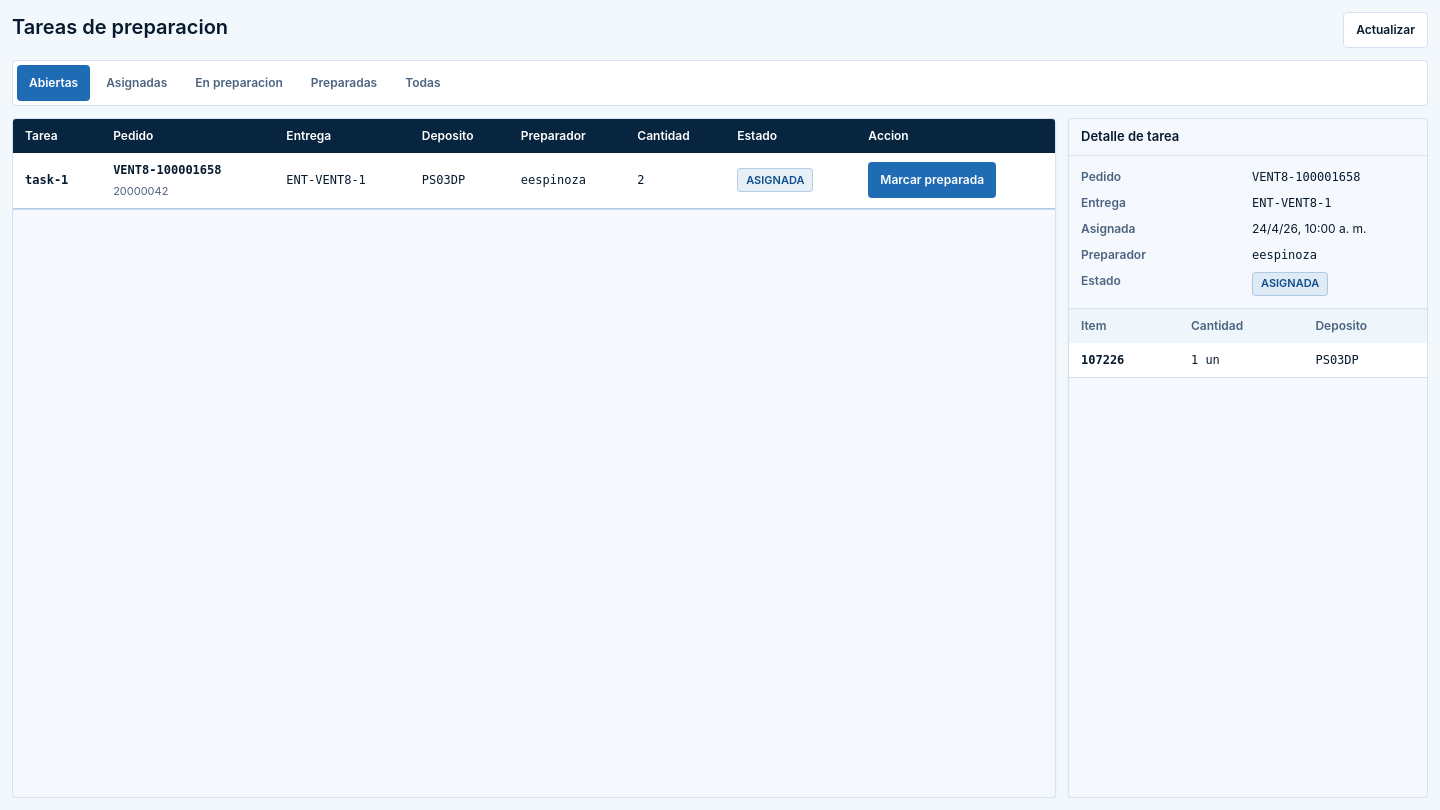
Test: PreparationTasksPage › renders preparation tasks and marks a task prepared
Expected: the text "VENT8-100001658" next to "task-1" is shown, [113,163,222,177]
Expected: the text "ENT-VENT8-1" is shown, [274,153,410,208]
What coordinates should you click on to do the following:
click the button "Marcar preparada"
I would click on:
 (932, 180)
Its box is [868,162,996,198].
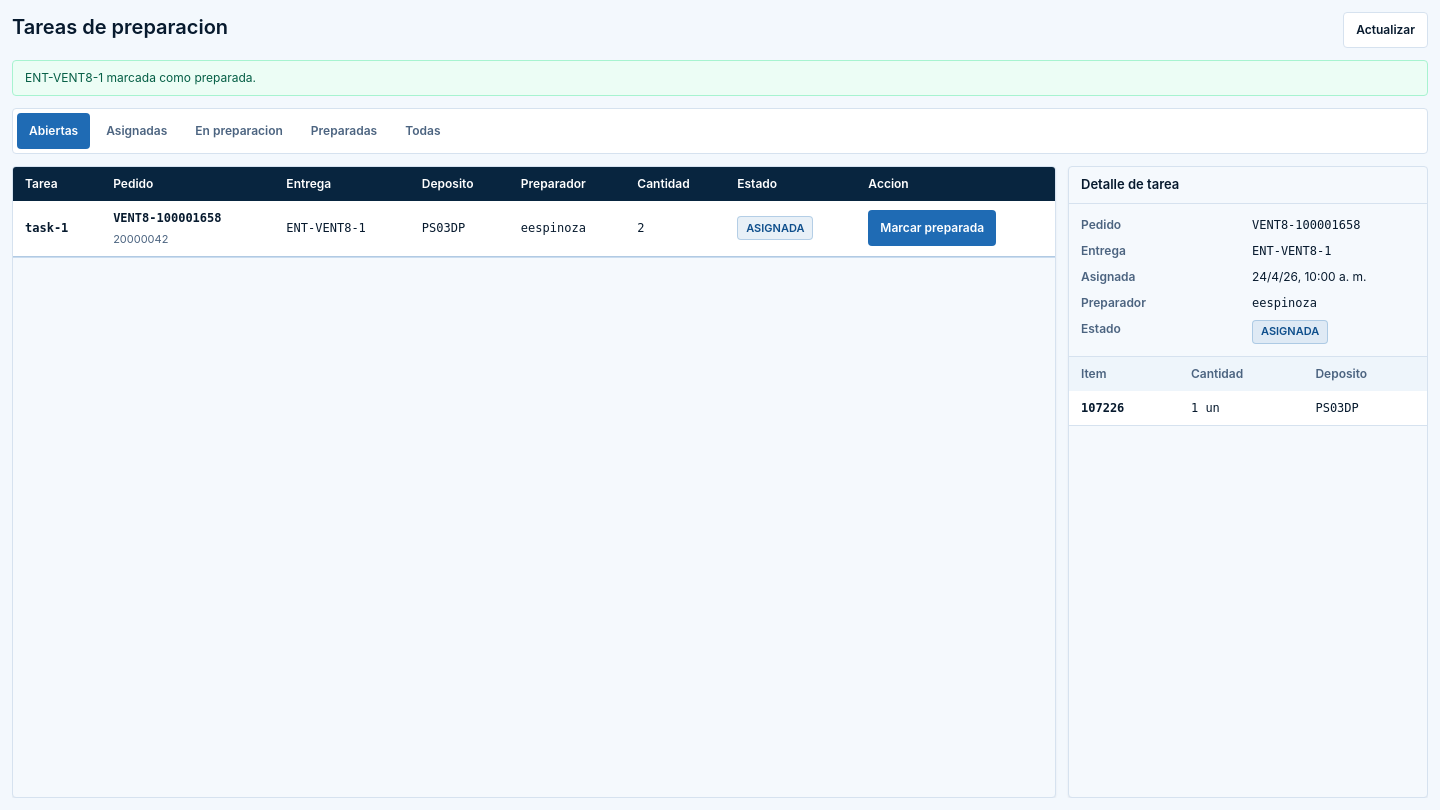
Result: the text "ENT-VENT8-1 marcada como preparada." is shown at [12,60,1428,96]
